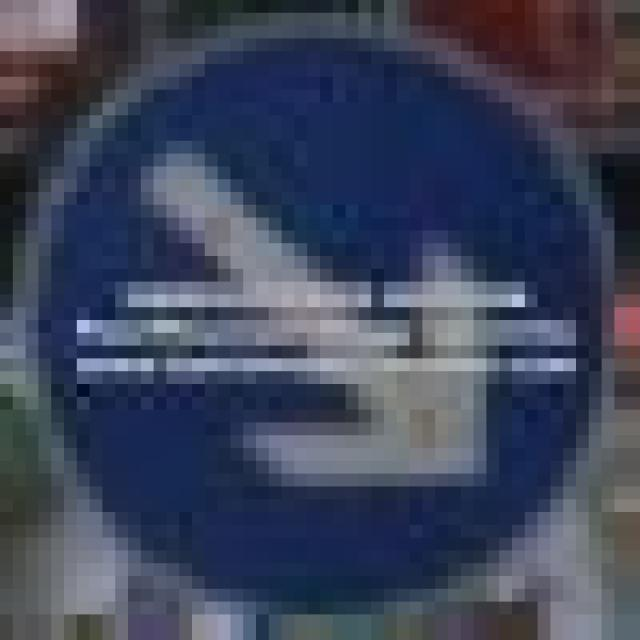compulsory_keep_left: (0, 0, 627, 614)
